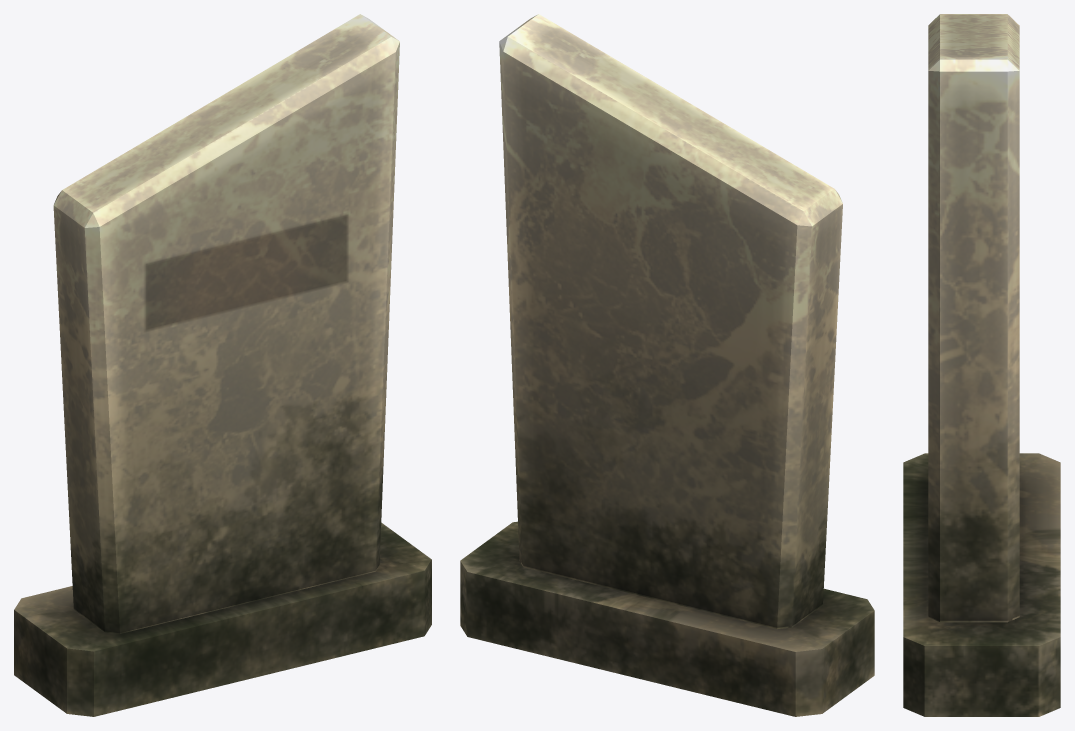
Rendered from SM_Tombstone_3.FBX.
3 renders of one model, left to right at view 1: azimuth 30°, elevation 25°; view 2: azimuth 150°, elevation 25°; view 3: azimuth 270°, elevation 25°, orthographic. The views are drawn at different scales.
Parts seen in each view (by area): view 1: Tombstone_3; view 2: Tombstone_3; view 3: Tombstone_3.
Boxes of the visible parts, left/top/right/bottom form: Tombstone_3: left=14, top=14, right=431, bottom=716; Tombstone_3: left=460, top=14, right=874, bottom=716; Tombstone_3: left=903, top=14, right=1060, bottom=716.
Bounding box in the file's own units: 21.61 × 7.44 × 33.44.
